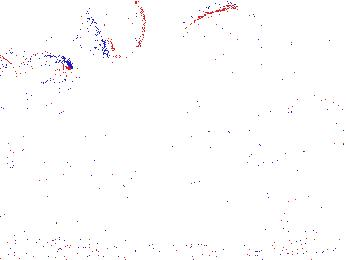moon jellyfish: (256, 99, 346, 193), (175, 4, 268, 86), (84, 1, 146, 65), (16, 5, 83, 54), (14, 52, 73, 99)
